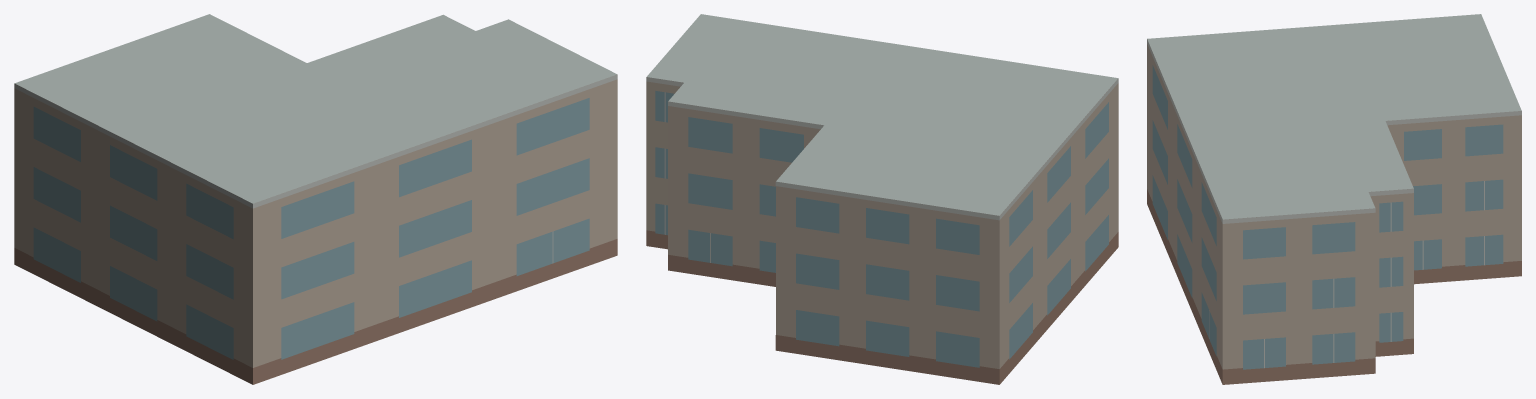
Rendered from survey-upis-32837868.glb.
The picture shows the model from 3 angles, left to right: view 1: azimuth 30°, elevation 25°; view 2: azimuth 150°, elevation 25°; view 3: azimuth 270°, elevation 25°; orthographic projection. The views are drawn at different scales.
Visible parts, largest first — view 1: survey-upis-32837868.tmp; view 2: survey-upis-32837868.tmp; view 3: survey-upis-32837868.tmp.
Boxes of the visible parts, x1=… form: survey-upis-32837868.tmp: x1=14, y1=14, x2=617, y2=384; survey-upis-32837868.tmp: x1=646, y1=14, x2=1118, y2=384; survey-upis-32837868.tmp: x1=1147, y1=14, x2=1521, y2=384.
Size of the model in its own units: 24.41 by 9.15 by 18.81.
